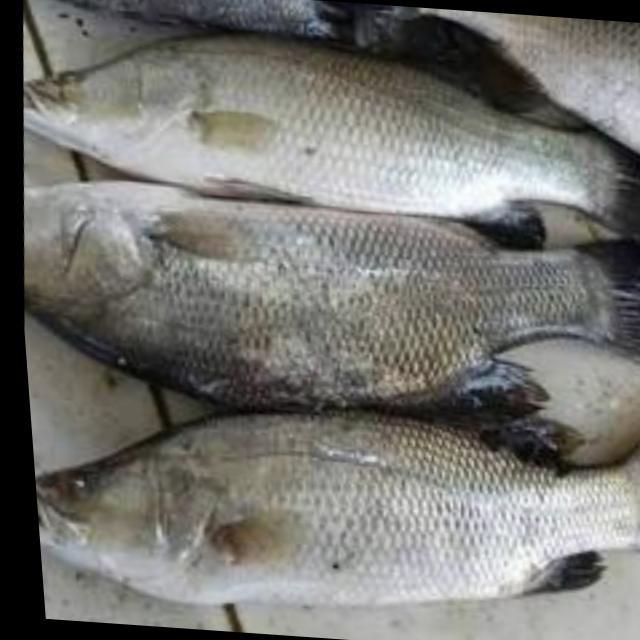Seabass: (13, 172, 640, 437), (27, 366, 640, 634), (8, 13, 640, 246)
